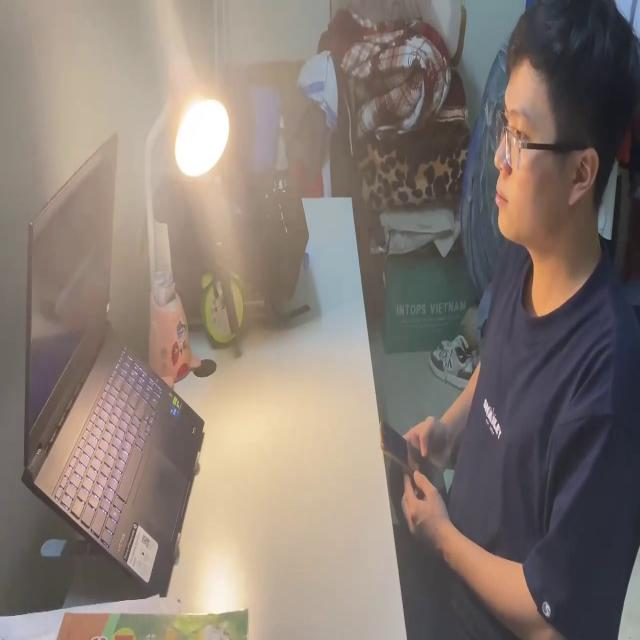book: (0, 600, 252, 640)
laptop: (17, 129, 206, 593)
phone: (379, 409, 448, 506)
student: (385, 0, 639, 640)
